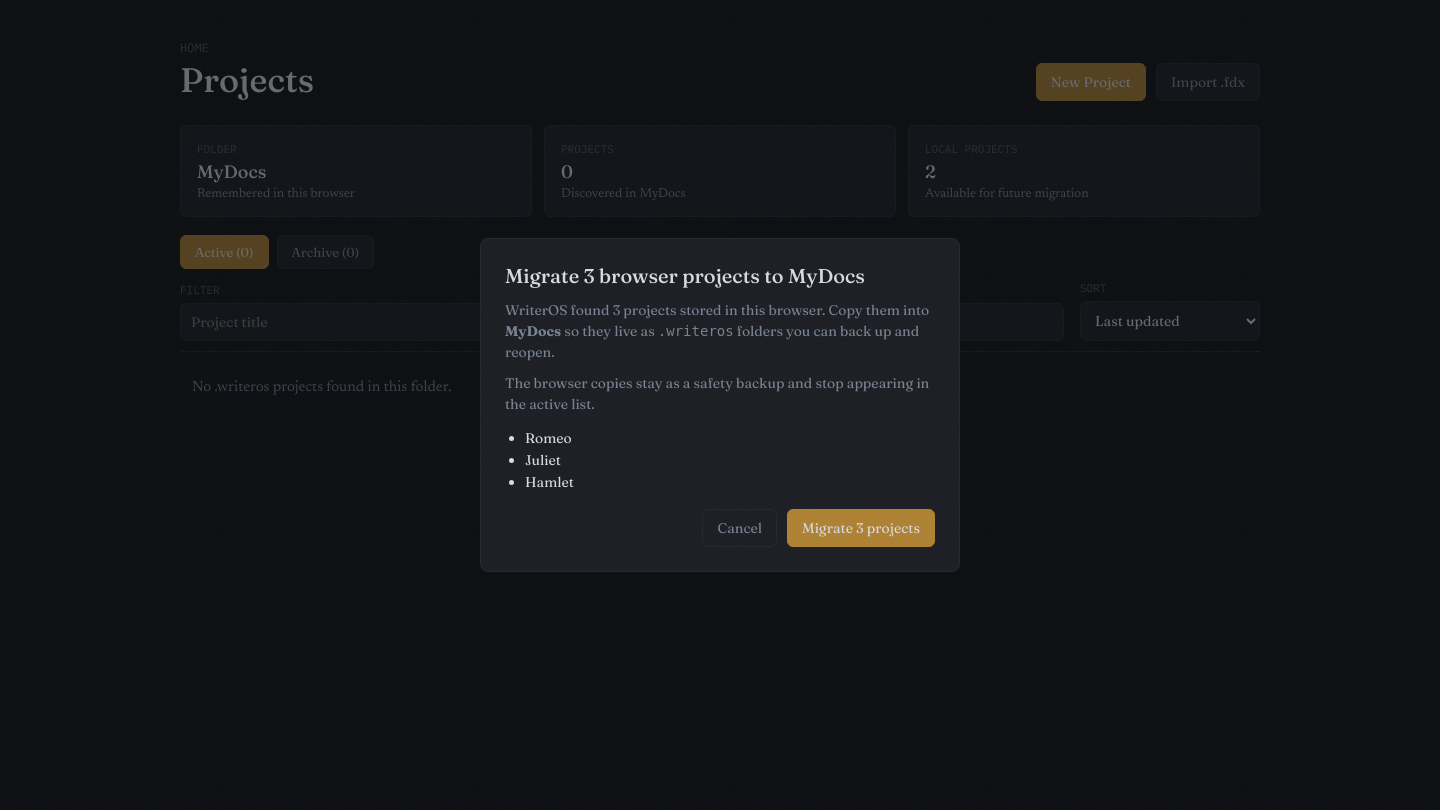
HomeSurface › localStorage → folder migration prompt › does NOT re-open the modal when unmigrated count decreases after a dismiss
Click the button "Cancel" at point(740, 528), box x1=702 y1=509 x2=777 y2=547
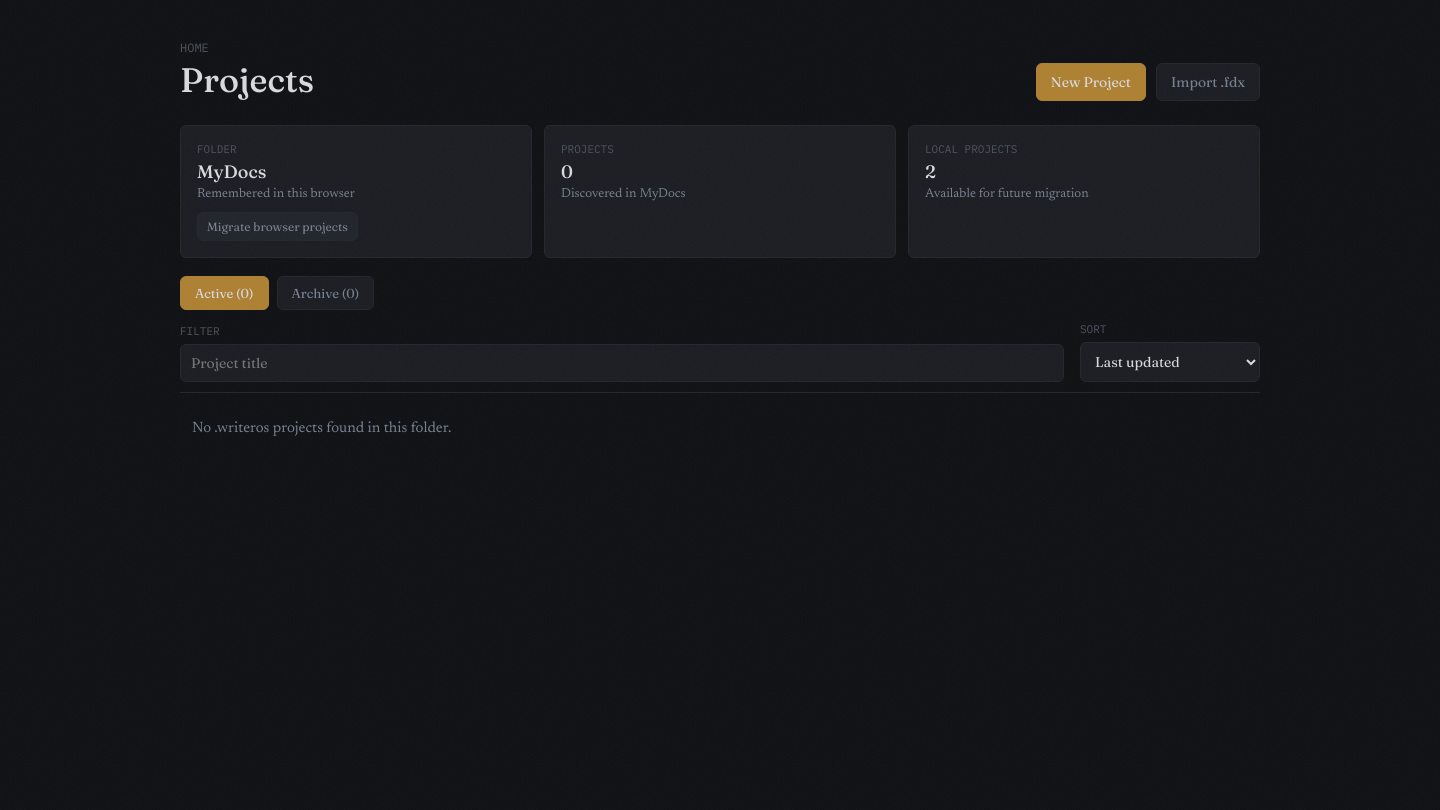
Expected: the dialog is gone
